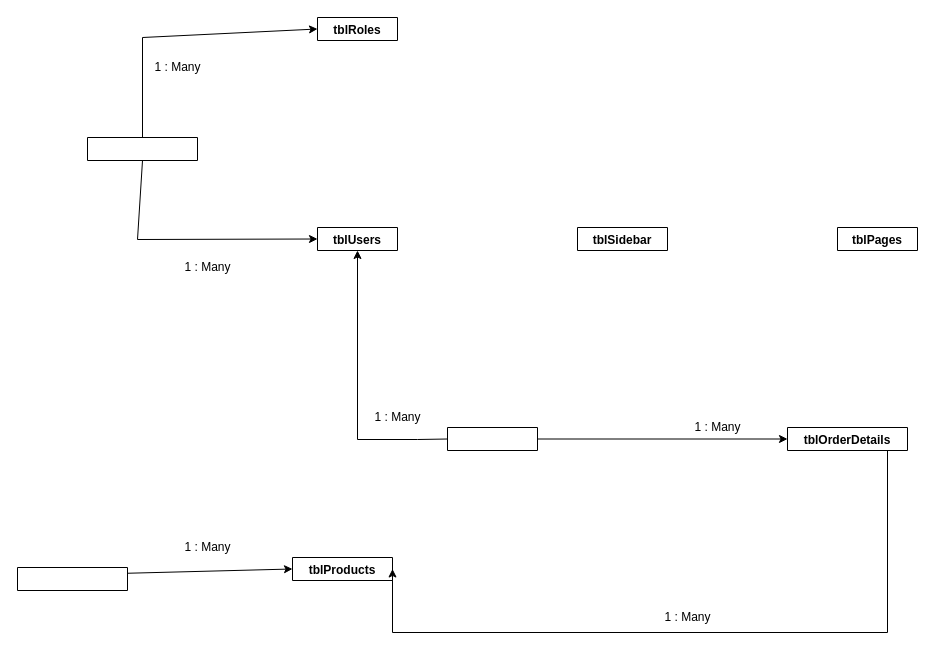
Image size: 935x658. Some labels were removed from this diagram. Here are the shapes that lost their labels. From the top down, the centre of each, then its label:
At (x=142, y=148): "tblUserRoles".
At (x=492, y=438): "tblOrders".
At (x=72, y=578): "tblCategories".
